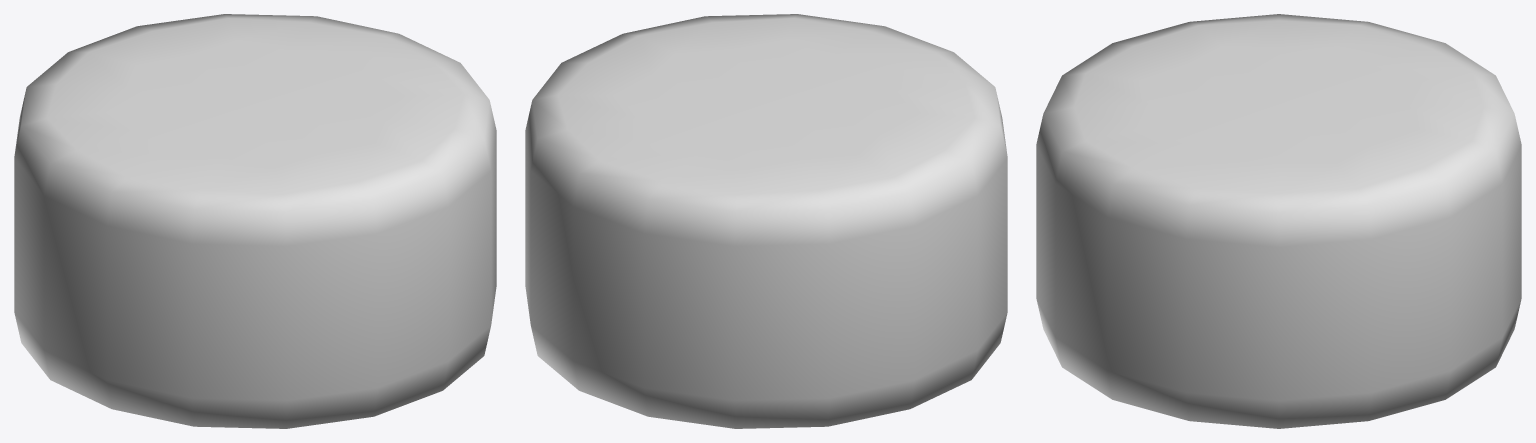
File: Tablet1.fbx
3 views of the same model, side by side, from view 1: azimuth 30°, elevation 25°; view 2: azimuth 150°, elevation 25°; view 3: azimuth 270°, elevation 25° (orthographic).
Visible parts, largest first — view 1: Tablet_003; view 2: Tablet_003; view 3: Tablet_003.
Boxes of the visible parts, x1,y1,x2,y2 form: Tablet_003: [14, 14, 496, 428]; Tablet_003: [525, 14, 1007, 428]; Tablet_003: [1036, 14, 1521, 428].
Bounding box in the file's own units: 3.06 × 1.62 × 3.06.
